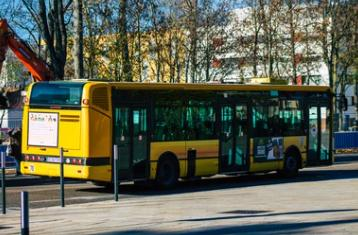vehicle: (21, 78, 348, 190)
